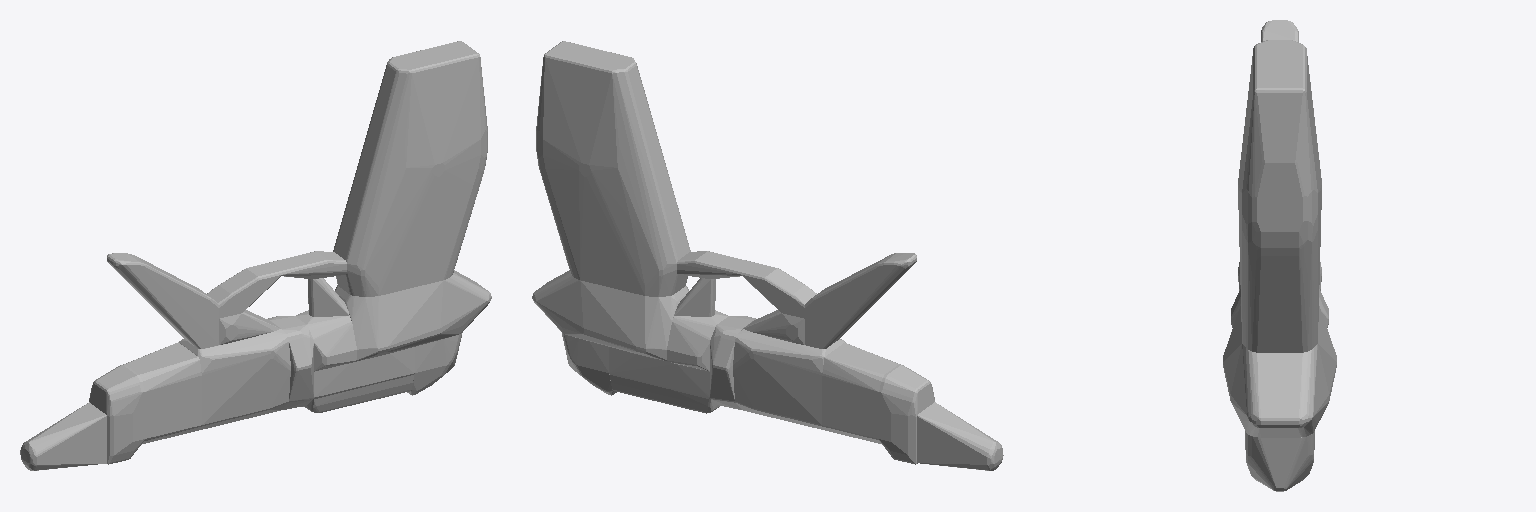
robot.urdf — root:
<robot name="root">
  <link name="link_coacd_convex_piece_0">
    <inertial>
      <origin xyz="0 0 0" rpy="0 0 0"/>
      <inertia ixx="1.09E-02" ixy="1.54E-07" ixz="3.21E-07" iyy="9.41E-03" iyz="5.64E-03" izz="1.68E-03"/>
    </inertial>
    <visual>
      <origin xyz="0 0 0" rpy="0 0 0"/>
      <geometry>
        <mesh filename="coacd_convex_piece_0.obj" scale="1.0000E+00 1.0000E+00 1.0000E+00"/>
      </geometry>
      <material name="">
        <color rgba="7.50E-01 7.50E-01 7.50E-01 1"/>
      </material>
    </visual>
    <collision>
      <origin xyz="0 0 0" rpy="0 0 0"/>
      <geometry>
        <mesh filename="coacd_convex_piece_0.obj" scale="1.0000E+00 1.0000E+00 1.0000E+00"/>
      </geometry>
    </collision>
  </link>
  <link name="link_coacd_convex_piece_1">
    <inertial>
      <origin xyz="0 0 0" rpy="0 0 0"/>
      <inertia ixx="3.84E-03" ixy="2.74E-07" ixz="6.93E-07" iyy="3.07E-03" iyz="-1.47E-03" izz="8.79E-04"/>
    </inertial>
    <visual>
      <origin xyz="0 0 0" rpy="0 0 0"/>
      <geometry>
        <mesh filename="coacd_convex_piece_1.obj" scale="1.0000E+00 1.0000E+00 1.0000E+00"/>
      </geometry>
      <material name="">
        <color rgba="7.50E-01 7.50E-01 7.50E-01 1"/>
      </material>
    </visual>
    <collision>
      <origin xyz="0 0 0" rpy="0 0 0"/>
      <geometry>
        <mesh filename="coacd_convex_piece_1.obj" scale="1.0000E+00 1.0000E+00 1.0000E+00"/>
      </geometry>
    </collision>
  </link>
  <joint name="link_coacd_convex_piece_1_joint" type="fixed">
    <origin xyz="0 0 0" rpy="0 0 0"/>
    <parent link="link_coacd_convex_piece_0"/>
    <child link="link_coacd_convex_piece_1"/>
  </joint>
  <link name="link_coacd_convex_piece_2">
    <inertial>
      <origin xyz="0 0 0" rpy="0 0 0"/>
      <inertia ixx="-3.35E-05" ixy="1.46E-08" ixz="2.00E-08" iyy="1.37E-05" iyz="1.90E-04" izz="-4.27E-05"/>
    </inertial>
    <visual>
      <origin xyz="0 0 0" rpy="0 0 0"/>
      <geometry>
        <mesh filename="coacd_convex_piece_2.obj" scale="1.0000E+00 1.0000E+00 1.0000E+00"/>
      </geometry>
      <material name="">
        <color rgba="7.50E-01 7.50E-01 7.50E-01 1"/>
      </material>
    </visual>
    <collision>
      <origin xyz="0 0 0" rpy="0 0 0"/>
      <geometry>
        <mesh filename="coacd_convex_piece_2.obj" scale="1.0000E+00 1.0000E+00 1.0000E+00"/>
      </geometry>
    </collision>
  </link>
  <joint name="link_coacd_convex_piece_2_joint" type="fixed">
    <origin xyz="0 0 0" rpy="0 0 0"/>
    <parent link="link_coacd_convex_piece_1"/>
    <child link="link_coacd_convex_piece_2"/>
  </joint>
  <link name="link_coacd_convex_piece_3">
    <inertial>
      <origin xyz="0 0 0" rpy="0 0 0"/>
      <inertia ixx="1.64E-03" ixy="-8.97E-08" ixz="-1.22E-07" iyy="1.01E-03" iyz="-8.06E-04" izz="6.47E-04"/>
    </inertial>
    <visual>
      <origin xyz="0 0 0" rpy="0 0 0"/>
      <geometry>
        <mesh filename="coacd_convex_piece_3.obj" scale="1.0000E+00 1.0000E+00 1.0000E+00"/>
      </geometry>
      <material name="">
        <color rgba="7.50E-01 7.50E-01 7.50E-01 1"/>
      </material>
    </visual>
    <collision>
      <origin xyz="0 0 0" rpy="0 0 0"/>
      <geometry>
        <mesh filename="coacd_convex_piece_3.obj" scale="1.0000E+00 1.0000E+00 1.0000E+00"/>
      </geometry>
    </collision>
  </link>
  <joint name="link_coacd_convex_piece_3_joint" type="fixed">
    <origin xyz="0 0 0" rpy="0 0 0"/>
    <parent link="link_coacd_convex_piece_2"/>
    <child link="link_coacd_convex_piece_3"/>
  </joint>
  <link name="link_coacd_convex_piece_4">
    <inertial>
      <origin xyz="0 0 0" rpy="0 0 0"/>
      <inertia ixx="3.83E-04" ixy="4.80E-08" ixz="1.29E-07" iyy="-9.08E-04" iyz="8.77E-04" izz="1.35E-03"/>
    </inertial>
    <visual>
      <origin xyz="0 0 0" rpy="0 0 0"/>
      <geometry>
        <mesh filename="coacd_convex_piece_4.obj" scale="1.0000E+00 1.0000E+00 1.0000E+00"/>
      </geometry>
      <material name="">
        <color rgba="7.50E-01 7.50E-01 7.50E-01 1"/>
      </material>
    </visual>
    <collision>
      <origin xyz="0 0 0" rpy="0 0 0"/>
      <geometry>
        <mesh filename="coacd_convex_piece_4.obj" scale="1.0000E+00 1.0000E+00 1.0000E+00"/>
      </geometry>
    </collision>
  </link>
  <joint name="link_coacd_convex_piece_4_joint" type="fixed">
    <origin xyz="0 0 0" rpy="0 0 0"/>
    <parent link="link_coacd_convex_piece_3"/>
    <child link="link_coacd_convex_piece_4"/>
  </joint>
  <link name="link_coacd_convex_piece_5">
    <inertial>
      <origin xyz="0 0 0" rpy="0 0 0"/>
      <inertia ixx="1.40E-03" ixy="-4.39E-08" ixz="1.09E-07" iyy="9.18E-04" iyz="9.05E-04" izz="4.81E-04"/>
    </inertial>
    <visual>
      <origin xyz="0 0 0" rpy="0 0 0"/>
      <geometry>
        <mesh filename="coacd_convex_piece_5.obj" scale="1.0000E+00 1.0000E+00 1.0000E+00"/>
      </geometry>
      <material name="">
        <color rgba="7.50E-01 7.50E-01 7.50E-01 1"/>
      </material>
    </visual>
    <collision>
      <origin xyz="0 0 0" rpy="0 0 0"/>
      <geometry>
        <mesh filename="coacd_convex_piece_5.obj" scale="1.0000E+00 1.0000E+00 1.0000E+00"/>
      </geometry>
    </collision>
  </link>
  <joint name="link_coacd_convex_piece_5_joint" type="fixed">
    <origin xyz="0 0 0" rpy="0 0 0"/>
    <parent link="link_coacd_convex_piece_4"/>
    <child link="link_coacd_convex_piece_5"/>
  </joint>
  <link name="link_coacd_convex_piece_6">
    <inertial>
      <origin xyz="0 0 0" rpy="0 0 0"/>
      <inertia ixx="6.90E-04" ixy="-7.93E-09" ixz="9.26E-09" iyy="1.04E-04" iyz="-3.31E-04" izz="5.95E-04"/>
    </inertial>
    <visual>
      <origin xyz="0 0 0" rpy="0 0 0"/>
      <geometry>
        <mesh filename="coacd_convex_piece_6.obj" scale="1.0000E+00 1.0000E+00 1.0000E+00"/>
      </geometry>
      <material name="">
        <color rgba="7.50E-01 7.50E-01 7.50E-01 1"/>
      </material>
    </visual>
    <collision>
      <origin xyz="0 0 0" rpy="0 0 0"/>
      <geometry>
        <mesh filename="coacd_convex_piece_6.obj" scale="1.0000E+00 1.0000E+00 1.0000E+00"/>
      </geometry>
    </collision>
  </link>
  <joint name="link_coacd_convex_piece_6_joint" type="fixed">
    <origin xyz="0 0 0" rpy="0 0 0"/>
    <parent link="link_coacd_convex_piece_5"/>
    <child link="link_coacd_convex_piece_6"/>
  </joint>
  <link name="link_coacd_convex_piece_7">
    <inertial>
      <origin xyz="0 0 0" rpy="0 0 0"/>
      <inertia ixx="9.20E-04" ixy="2.11E-07" ixz="1.85E-07" iyy="1.90E-04" iyz="-4.75E-04" izz="7.51E-04"/>
    </inertial>
    <visual>
      <origin xyz="0 0 0" rpy="0 0 0"/>
      <geometry>
        <mesh filename="coacd_convex_piece_7.obj" scale="1.0000E+00 1.0000E+00 1.0000E+00"/>
      </geometry>
      <material name="">
        <color rgba="7.50E-01 7.50E-01 7.50E-01 1"/>
      </material>
    </visual>
    <collision>
      <origin xyz="0 0 0" rpy="0 0 0"/>
      <geometry>
        <mesh filename="coacd_convex_piece_7.obj" scale="1.0000E+00 1.0000E+00 1.0000E+00"/>
      </geometry>
    </collision>
  </link>
  <joint name="link_coacd_convex_piece_7_joint" type="fixed">
    <origin xyz="0 0 0" rpy="0 0 0"/>
    <parent link="link_coacd_convex_piece_6"/>
    <child link="link_coacd_convex_piece_7"/>
  </joint>
  <link name="link_coacd_convex_piece_8">
    <inertial>
      <origin xyz="0 0 0" rpy="0 0 0"/>
      <inertia ixx="1.26E-04" ixy="-2.05E-08" ixz="3.02E-08" iyy="-2.70E-04" iyz="1.09E-05" izz="4.17E-04"/>
    </inertial>
    <visual>
      <origin xyz="0 0 0" rpy="0 0 0"/>
      <geometry>
        <mesh filename="coacd_convex_piece_8.obj" scale="1.0000E+00 1.0000E+00 1.0000E+00"/>
      </geometry>
      <material name="">
        <color rgba="7.50E-01 7.50E-01 7.50E-01 1"/>
      </material>
    </visual>
    <collision>
      <origin xyz="0 0 0" rpy="0 0 0"/>
      <geometry>
        <mesh filename="coacd_convex_piece_8.obj" scale="1.0000E+00 1.0000E+00 1.0000E+00"/>
      </geometry>
    </collision>
  </link>
  <joint name="link_coacd_convex_piece_8_joint" type="fixed">
    <origin xyz="0 0 0" rpy="0 0 0"/>
    <parent link="link_coacd_convex_piece_7"/>
    <child link="link_coacd_convex_piece_8"/>
  </joint>
  <link name="link_coacd_convex_piece_9">
    <inertial>
      <origin xyz="0 0 0" rpy="0 0 0"/>
      <inertia ixx="9.32E-04" ixy="-1.03E-07" ixz="1.77E-07" iyy="1.54E-04" iyz="1.11E-03" izz="8.03E-04"/>
    </inertial>
    <visual>
      <origin xyz="0 0 0" rpy="0 0 0"/>
      <geometry>
        <mesh filename="coacd_convex_piece_9.obj" scale="1.0000E+00 1.0000E+00 1.0000E+00"/>
      </geometry>
      <material name="">
        <color rgba="7.50E-01 7.50E-01 7.50E-01 1"/>
      </material>
    </visual>
    <collision>
      <origin xyz="0 0 0" rpy="0 0 0"/>
      <geometry>
        <mesh filename="coacd_convex_piece_9.obj" scale="1.0000E+00 1.0000E+00 1.0000E+00"/>
      </geometry>
    </collision>
  </link>
  <joint name="link_coacd_convex_piece_9_joint" type="fixed">
    <origin xyz="0 0 0" rpy="0 0 0"/>
    <parent link="link_coacd_convex_piece_8"/>
    <child link="link_coacd_convex_piece_9"/>
  </joint>
  <link name="link_coacd_convex_piece_10">
    <inertial>
      <origin xyz="0 0 0" rpy="0 0 0"/>
      <inertia ixx="1.11E-03" ixy="-4.42E-07" ixz="6.46E-07" iyy="5.74E-04" iyz="9.19E-04" izz="5.49E-04"/>
    </inertial>
    <visual>
      <origin xyz="0 0 0" rpy="0 0 0"/>
      <geometry>
        <mesh filename="coacd_convex_piece_10.obj" scale="1.0000E+00 1.0000E+00 1.0000E+00"/>
      </geometry>
      <material name="">
        <color rgba="7.50E-01 7.50E-01 7.50E-01 1"/>
      </material>
    </visual>
    <collision>
      <origin xyz="0 0 0" rpy="0 0 0"/>
      <geometry>
        <mesh filename="coacd_convex_piece_10.obj" scale="1.0000E+00 1.0000E+00 1.0000E+00"/>
      </geometry>
    </collision>
  </link>
  <joint name="link_coacd_convex_piece_10_joint" type="fixed">
    <origin xyz="0 0 0" rpy="0 0 0"/>
    <parent link="link_coacd_convex_piece_9"/>
    <child link="link_coacd_convex_piece_10"/>
  </joint>
  <link name="link_coacd_convex_piece_11">
    <inertial>
      <origin xyz="0 0 0" rpy="0 0 0"/>
      <inertia ixx="-1.15E-05" ixy="5.01E-09" ixz="7.86E-09" iyy="-1.56E-05" iyz="1.42E-06" izz="4.51E-06"/>
    </inertial>
    <visual>
      <origin xyz="0 0 0" rpy="0 0 0"/>
      <geometry>
        <mesh filename="coacd_convex_piece_11.obj" scale="1.0000E+00 1.0000E+00 1.0000E+00"/>
      </geometry>
      <material name="">
        <color rgba="7.50E-01 7.50E-01 7.50E-01 1"/>
      </material>
    </visual>
    <collision>
      <origin xyz="0 0 0" rpy="0 0 0"/>
      <geometry>
        <mesh filename="coacd_convex_piece_11.obj" scale="1.0000E+00 1.0000E+00 1.0000E+00"/>
      </geometry>
    </collision>
  </link>
  <joint name="link_coacd_convex_piece_11_joint" type="fixed">
    <origin xyz="0 0 0" rpy="0 0 0"/>
    <parent link="link_coacd_convex_piece_10"/>
    <child link="link_coacd_convex_piece_11"/>
  </joint>
  <link name="link_coacd_convex_piece_12">
    <inertial>
      <origin xyz="0 0 0" rpy="0 0 0"/>
      <inertia ixx="-5.31E-05" ixy="2.78E-10" ixz="-3.51E-09" iyy="-3.70E-05" iyz="2.73E-05" izz="-1.52E-05"/>
    </inertial>
    <visual>
      <origin xyz="0 0 0" rpy="0 0 0"/>
      <geometry>
        <mesh filename="coacd_convex_piece_12.obj" scale="1.0000E+00 1.0000E+00 1.0000E+00"/>
      </geometry>
      <material name="">
        <color rgba="7.50E-01 7.50E-01 7.50E-01 1"/>
      </material>
    </visual>
    <collision>
      <origin xyz="0 0 0" rpy="0 0 0"/>
      <geometry>
        <mesh filename="coacd_convex_piece_12.obj" scale="1.0000E+00 1.0000E+00 1.0000E+00"/>
      </geometry>
    </collision>
  </link>
  <joint name="link_coacd_convex_piece_12_joint" type="fixed">
    <origin xyz="0 0 0" rpy="0 0 0"/>
    <parent link="link_coacd_convex_piece_11"/>
    <child link="link_coacd_convex_piece_12"/>
  </joint>
  <link name="link_coacd_convex_piece_13">
    <inertial>
      <origin xyz="0 0 0" rpy="0 0 0"/>
      <inertia ixx="-8.32E-05" ixy="-2.68E-10" ixz="1.21E-08" iyy="-9.51E-05" iyz="6.65E-05" izz="1.37E-05"/>
    </inertial>
    <visual>
      <origin xyz="0 0 0" rpy="0 0 0"/>
      <geometry>
        <mesh filename="coacd_convex_piece_13.obj" scale="1.0000E+00 1.0000E+00 1.0000E+00"/>
      </geometry>
      <material name="">
        <color rgba="7.50E-01 7.50E-01 7.50E-01 1"/>
      </material>
    </visual>
    <collision>
      <origin xyz="0 0 0" rpy="0 0 0"/>
      <geometry>
        <mesh filename="coacd_convex_piece_13.obj" scale="1.0000E+00 1.0000E+00 1.0000E+00"/>
      </geometry>
    </collision>
  </link>
  <joint name="link_coacd_convex_piece_13_joint" type="fixed">
    <origin xyz="0 0 0" rpy="0 0 0"/>
    <parent link="link_coacd_convex_piece_12"/>
    <child link="link_coacd_convex_piece_13"/>
  </joint>
  <link name="link_coacd_convex_piece_14">
    <inertial>
      <origin xyz="0 0 0" rpy="0 0 0"/>
      <inertia ixx="-1.06E-04" ixy="3.04E-09" ixz="1.34E-08" iyy="-8.85E-05" iyz="5.28E-05" izz="-1.59E-05"/>
    </inertial>
    <visual>
      <origin xyz="0 0 0" rpy="0 0 0"/>
      <geometry>
        <mesh filename="coacd_convex_piece_14.obj" scale="1.0000E+00 1.0000E+00 1.0000E+00"/>
      </geometry>
      <material name="">
        <color rgba="7.50E-01 7.50E-01 7.50E-01 1"/>
      </material>
    </visual>
    <collision>
      <origin xyz="0 0 0" rpy="0 0 0"/>
      <geometry>
        <mesh filename="coacd_convex_piece_14.obj" scale="1.0000E+00 1.0000E+00 1.0000E+00"/>
      </geometry>
    </collision>
  </link>
  <joint name="link_coacd_convex_piece_14_joint" type="fixed">
    <origin xyz="0 0 0" rpy="0 0 0"/>
    <parent link="link_coacd_convex_piece_13"/>
    <child link="link_coacd_convex_piece_14"/>
  </joint>
  <link name="link_coacd_convex_piece_15">
    <inertial>
      <origin xyz="0 0 0" rpy="0 0 0"/>
      <inertia ixx="1.08E-04" ixy="-7.78E-09" ixz="7.88E-09" iyy="-9.88E-05" iyz="-7.72E-05" izz="2.24E-04"/>
    </inertial>
    <visual>
      <origin xyz="0 0 0" rpy="0 0 0"/>
      <geometry>
        <mesh filename="coacd_convex_piece_15.obj" scale="1.0000E+00 1.0000E+00 1.0000E+00"/>
      </geometry>
      <material name="">
        <color rgba="7.50E-01 7.50E-01 7.50E-01 1"/>
      </material>
    </visual>
    <collision>
      <origin xyz="0 0 0" rpy="0 0 0"/>
      <geometry>
        <mesh filename="coacd_convex_piece_15.obj" scale="1.0000E+00 1.0000E+00 1.0000E+00"/>
      </geometry>
    </collision>
  </link>
  <joint name="link_coacd_convex_piece_15_joint" type="fixed">
    <origin xyz="0 0 0" rpy="0 0 0"/>
    <parent link="link_coacd_convex_piece_14"/>
    <child link="link_coacd_convex_piece_15"/>
  </joint>
</robot>

--- Facts derived from the render (not from the file) ---
The picture shows the robot from 3 angles, left to right: view 1: azimuth 30°, elevation 25°; view 2: azimuth 150°, elevation 25°; view 3: azimuth 270°, elevation 25°; orthographic projection.
Model root with 16 links and 15 joints (15 fixed), rooted at link_coacd_convex_piece_0, posed all joints at 0.
Visible links, largest first — view 1: link_coacd_convex_piece_0, link_coacd_convex_piece_1, link_coacd_convex_piece_4, link_coacd_convex_piece_9, link_coacd_convex_piece_2, link_coacd_convex_piece_5, link_coacd_convex_piece_10, link_coacd_convex_piece_7, link_coacd_convex_piece_8, link_coacd_convex_piece_15, link_coacd_convex_piece_14, link_coacd_convex_piece_3 (+4 smaller); view 2: link_coacd_convex_piece_0, link_coacd_convex_piece_1, link_coacd_convex_piece_4, link_coacd_convex_piece_9, link_coacd_convex_piece_2, link_coacd_convex_piece_5, link_coacd_convex_piece_10, link_coacd_convex_piece_7, link_coacd_convex_piece_15, link_coacd_convex_piece_8, link_coacd_convex_piece_14, link_coacd_convex_piece_3 (+4 smaller); view 3: link_coacd_convex_piece_0, link_coacd_convex_piece_1, link_coacd_convex_piece_3, link_coacd_convex_piece_2.
Boxes of the visible links, bbox=[...] form: link_coacd_convex_piece_0: bbox=[333, 41, 487, 296]; link_coacd_convex_piece_1: bbox=[335, 270, 491, 360]; link_coacd_convex_piece_4: bbox=[179, 321, 290, 431]; link_coacd_convex_piece_9: bbox=[123, 342, 201, 444]; link_coacd_convex_piece_2: bbox=[107, 253, 218, 348]; link_coacd_convex_piece_5: bbox=[20, 402, 106, 470]; link_coacd_convex_piece_10: bbox=[89, 364, 144, 464]; link_coacd_convex_piece_7: bbox=[314, 347, 414, 398]; link_coacd_convex_piece_8: bbox=[268, 316, 313, 409]; link_coacd_convex_piece_15: bbox=[296, 310, 356, 371]; link_coacd_convex_piece_14: bbox=[207, 263, 281, 318]; link_coacd_convex_piece_3: bbox=[407, 332, 462, 395]; link_coacd_convex_piece_0: bbox=[536, 41, 690, 296]; link_coacd_convex_piece_1: bbox=[532, 270, 688, 360]; link_coacd_convex_piece_4: bbox=[733, 321, 845, 431]; link_coacd_convex_piece_9: bbox=[822, 343, 900, 443]; link_coacd_convex_piece_2: bbox=[805, 253, 916, 348]; link_coacd_convex_piece_5: bbox=[917, 402, 1003, 470]; link_coacd_convex_piece_10: bbox=[879, 364, 934, 464]; link_coacd_convex_piece_7: bbox=[609, 347, 709, 398]; link_coacd_convex_piece_15: bbox=[667, 310, 727, 371]; link_coacd_convex_piece_8: bbox=[710, 316, 755, 409]; link_coacd_convex_piece_14: bbox=[742, 263, 816, 318]; link_coacd_convex_piece_3: bbox=[562, 333, 616, 395]; link_coacd_convex_piece_0: bbox=[1238, 40, 1321, 352]; link_coacd_convex_piece_1: bbox=[1223, 306, 1336, 437]; link_coacd_convex_piece_3: bbox=[1245, 431, 1314, 491]; link_coacd_convex_piece_2: bbox=[1261, 20, 1298, 42].
Bounding box of the posed robot: 1.67 × 0.2727 × 1.15 m (x, y, z).
16 mesh visuals loaded from 16 distinct referenced files (16 OBJ).
